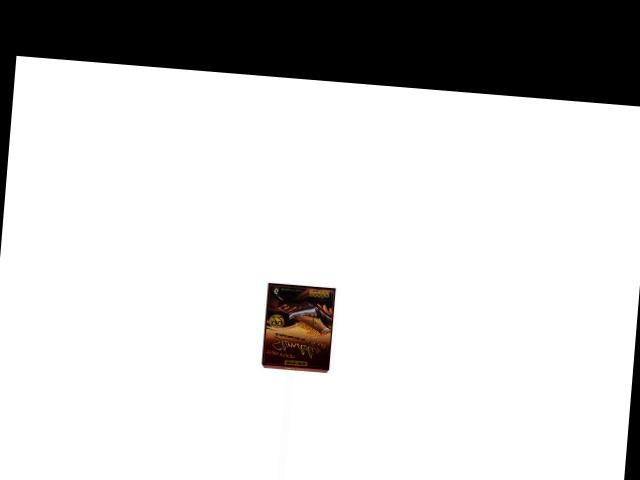chocolate: (261, 282, 335, 373)
